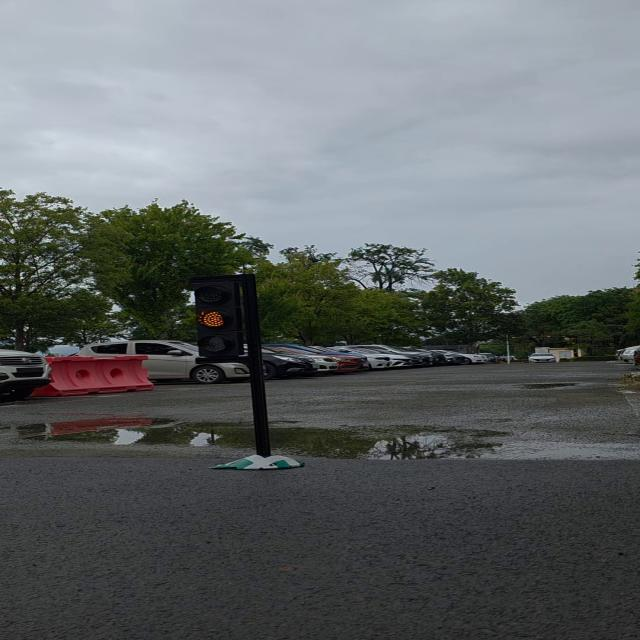yellow: (188, 274, 258, 367)
